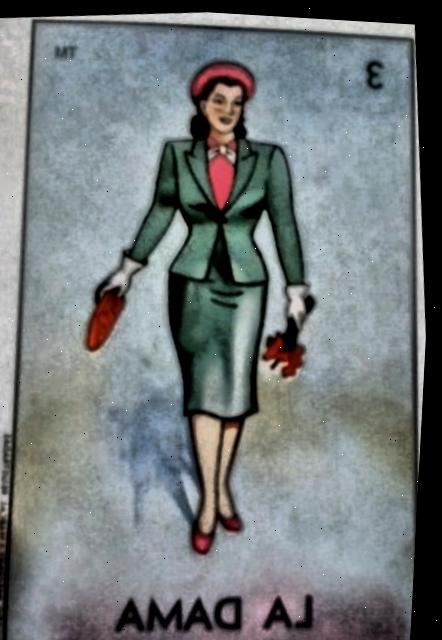La Dama: (11, 20, 422, 640)
